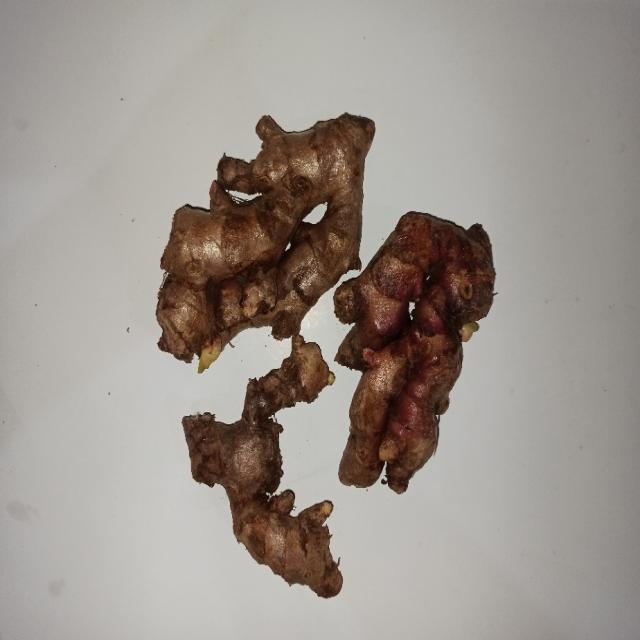ginger: (164, 118, 363, 366), (352, 229, 492, 490), (185, 374, 346, 594)
